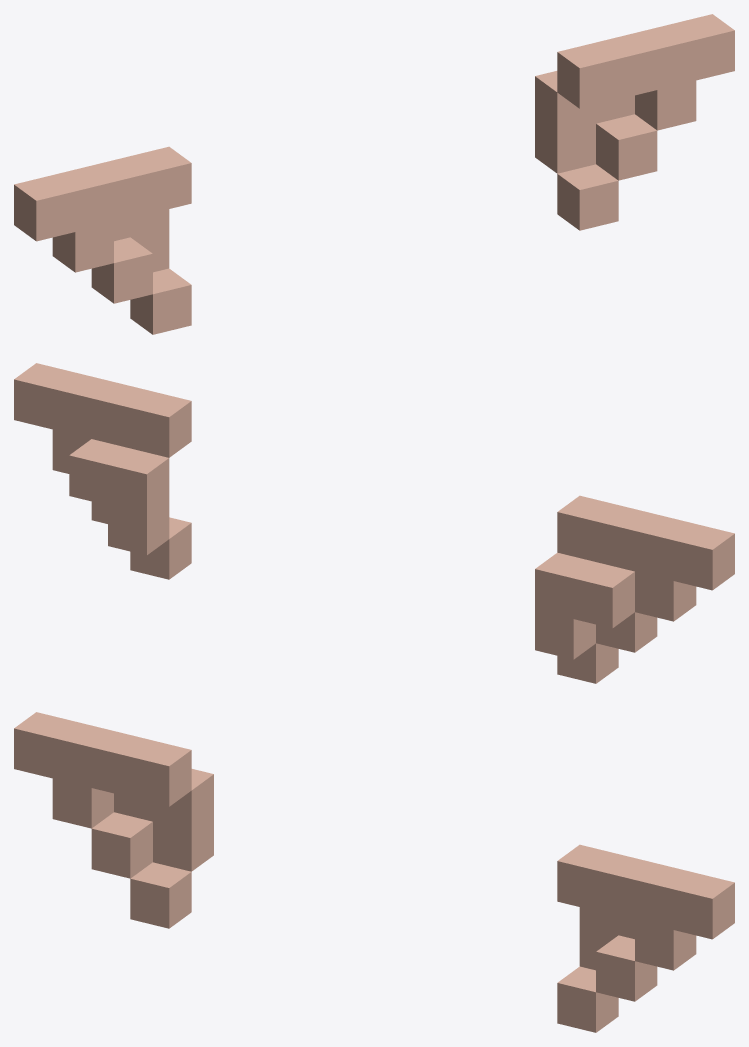
File: ElfEars.fbx
The picture shows the model from 3 angles, top to bottom: view 1: azimuth 30°, elevation 25°; view 2: azimuth 150°, elevation 25°; view 3: azimuth 330°, elevation 25°; orthographic projection.
Visible parts, largest first — view 1: EarsElf; view 2: EarsElf; view 3: EarsElf.
Boxes of the visible parts, x1=… form: EarsElf: x1=14, y1=14, x2=734, y2=334; EarsElf: x1=14, y1=363, x2=734, y2=683; EarsElf: x1=14, y1=712, x2=734, y2=1032.
Bounding box in the file's own units: 180 × 40 × 20.
